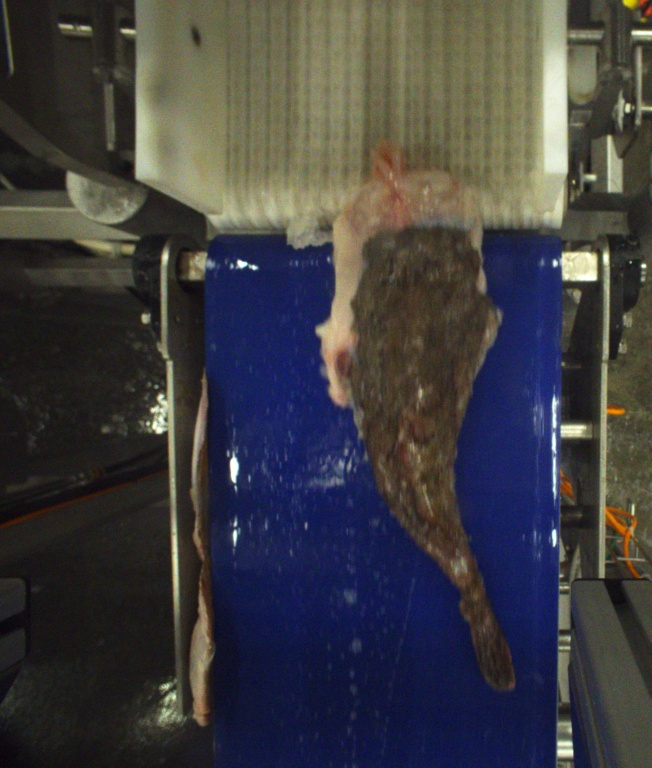ANF: (316, 138, 519, 690)
